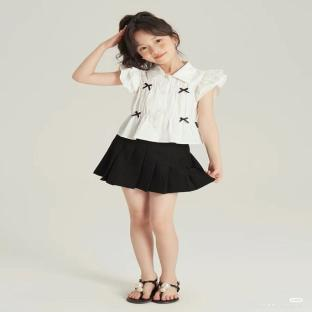Human: (72, 12, 226, 302)
